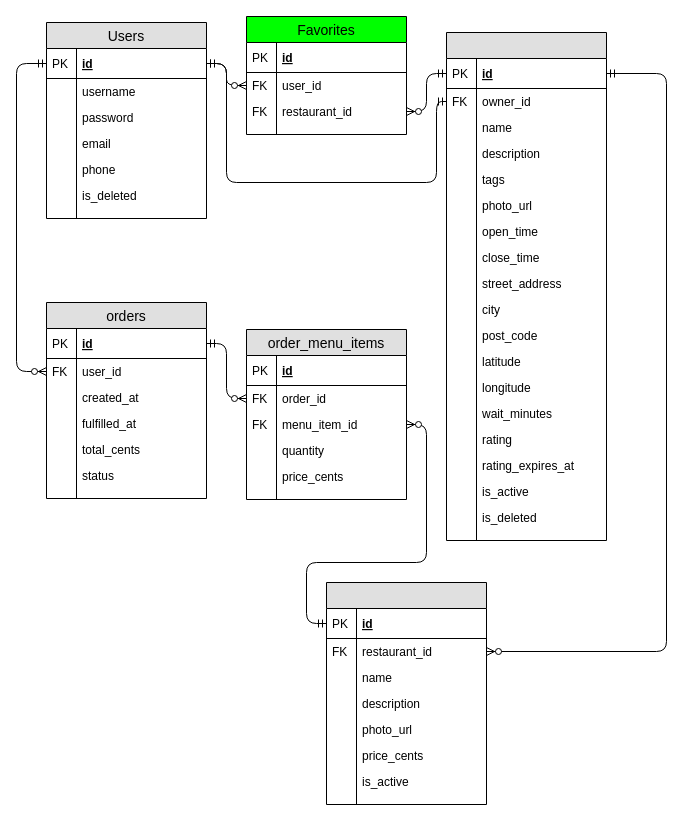
Image size: 683x821. Some labels were removed from this diagram. Here are the shapes that lost their labels. From the top down, the box of each, then its label:
(446, 32, 606, 540): Restaurants
(326, 582, 486, 804): Menu_items
